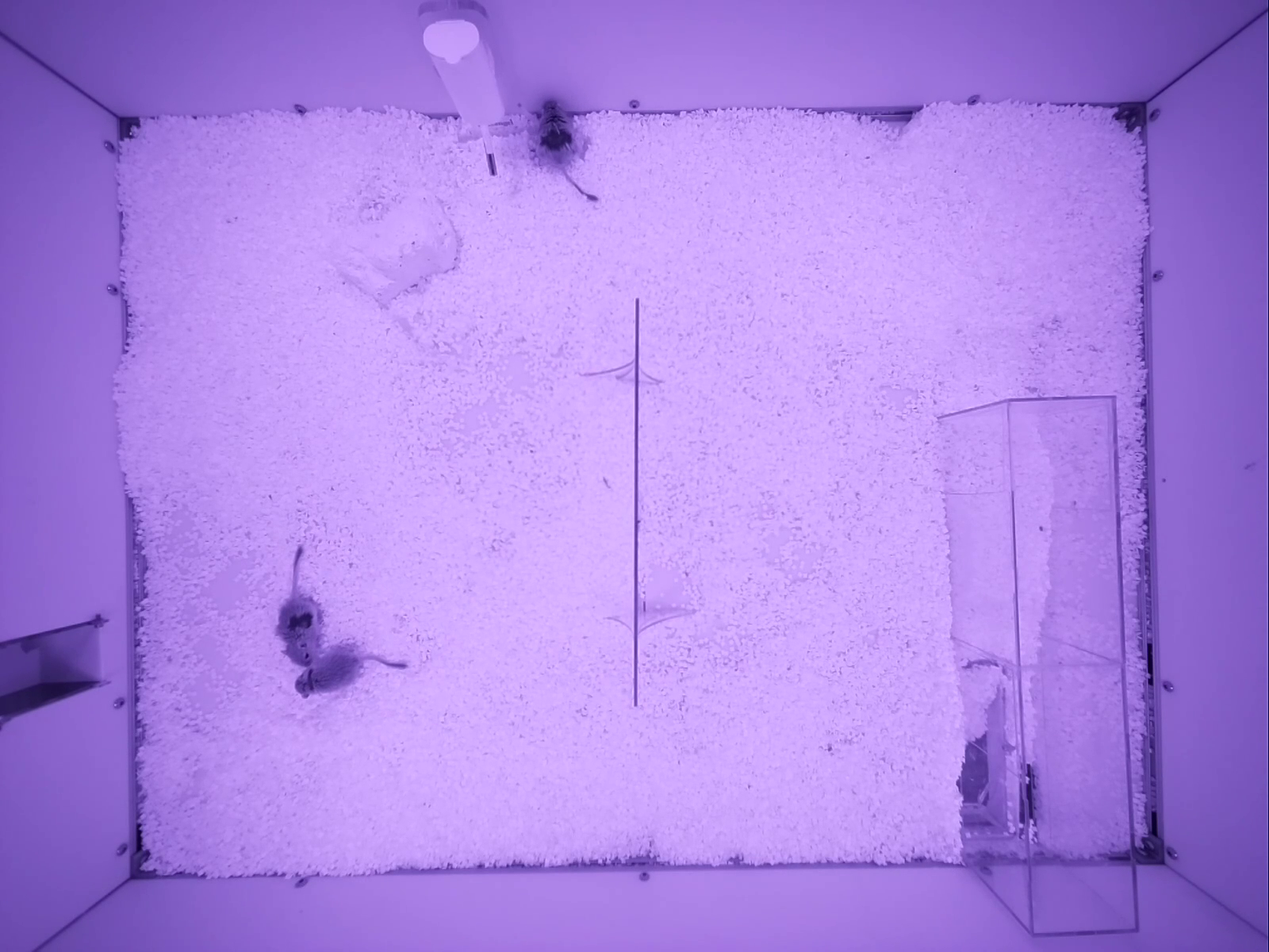adult_back: (537, 100, 597, 201), (295, 643, 405, 697), (277, 545, 321, 666)
